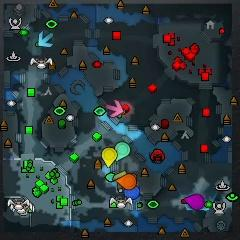p1: (123, 185, 141, 200)
p2: (115, 141, 130, 161)
p3: (184, 193, 205, 210)
p4: (102, 147, 117, 167)
p5: (117, 174, 137, 190)
x1: (106, 99, 123, 118)
x2: (113, 171, 126, 190)
x3: (38, 30, 54, 47)
